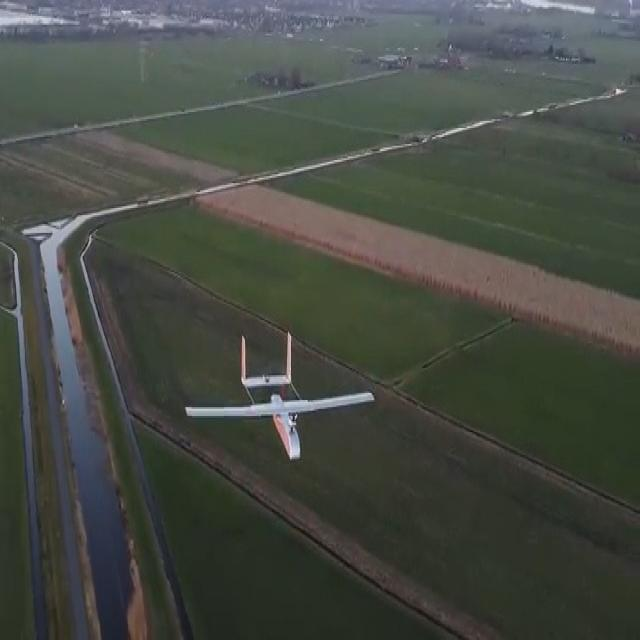iha: (183, 340, 379, 469)
